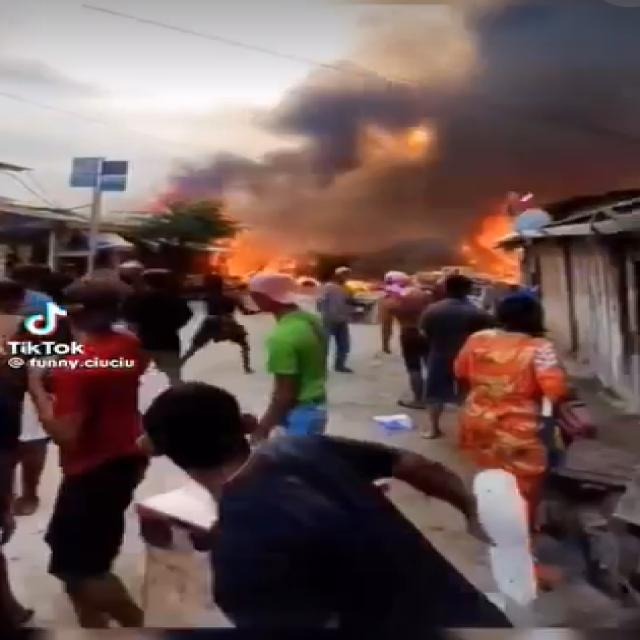Fire: (449, 198, 538, 284), (205, 221, 302, 280)
Smoke: (179, 0, 640, 264)
